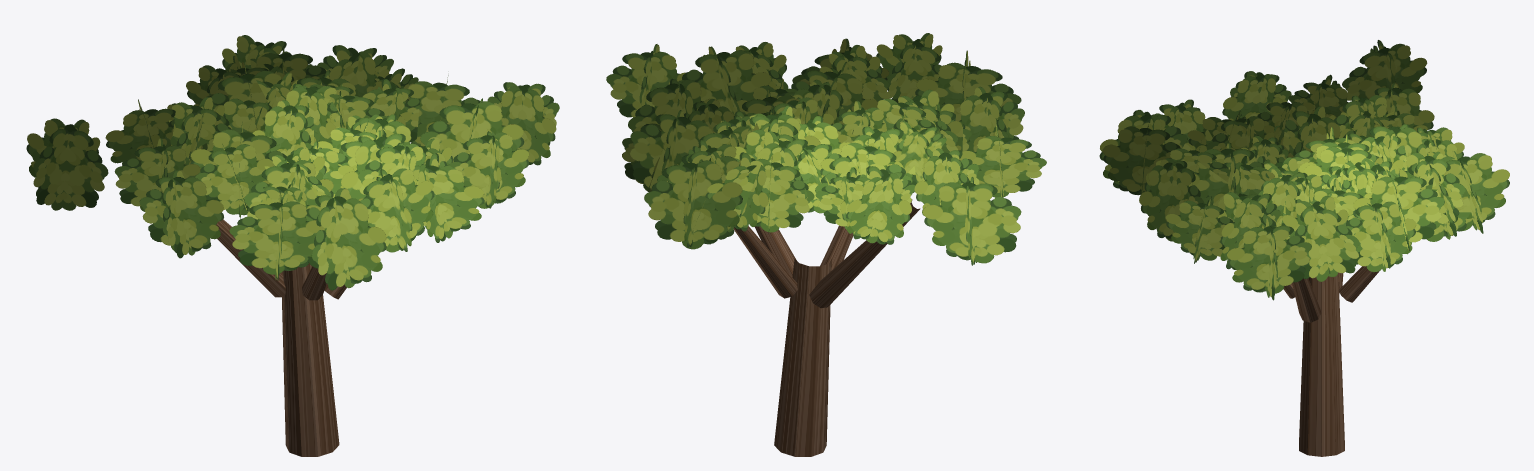
Rendered from anime_acacia.glb.
3 views of the same model, side by side, from view 1: azimuth 30°, elevation 25°; view 2: azimuth 150°, elevation 25°; view 3: azimuth 270°, elevation 25° (orthographic). The views are drawn at different scales.
Visible parts, largest first — view 1: anime_acacia; view 2: anime_acacia; view 3: anime_acacia.
Boxes of the visible parts, x1,y1,x2,y2 form: anime_acacia: (26, 35, 559, 456); anime_acacia: (606, 33, 1046, 456); anime_acacia: (1099, 40, 1509, 456).
Size of the model in its own units: 7.21 by 5.05 by 6.04.
2 materials, 2 textured.
